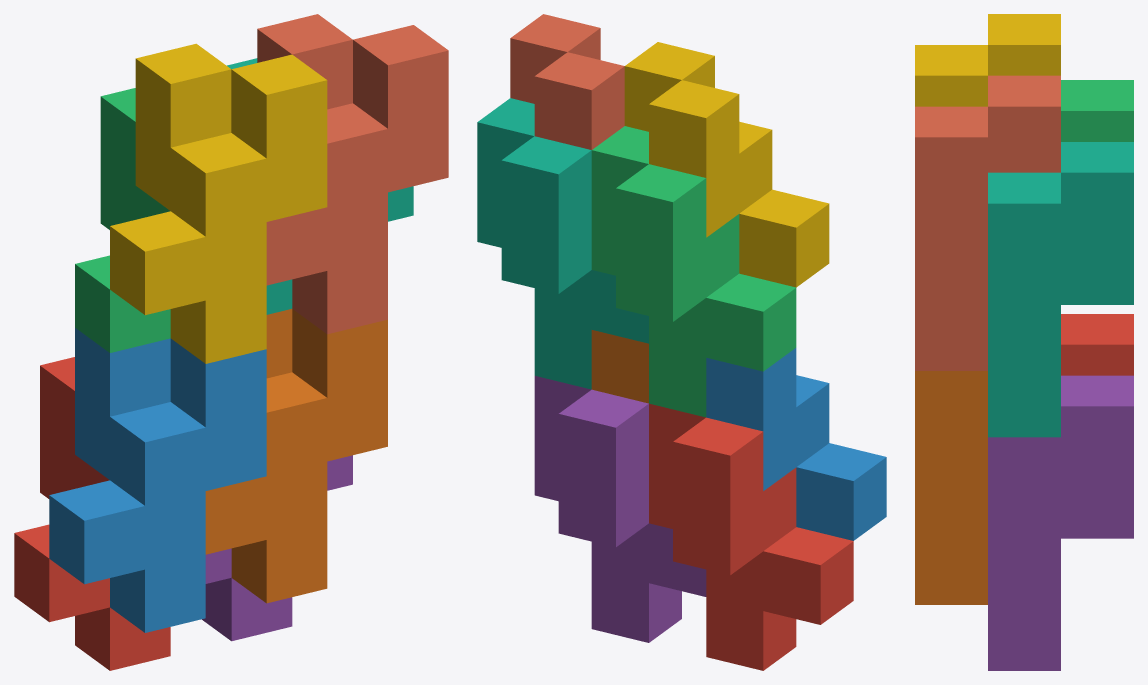
File: tiling.obj
3 views of the same model, side by side, from view 1: azimuth 30°, elevation 25°; view 2: azimuth 150°, elevation 25°; view 3: azimuth 270°, elevation 25° (orthographic). The views are drawn at different scales.
Parts seen in each view (by area): view 1: copy_1_domain_4, copy_1_domain_2, copy_1_domain_8, copy_1_domain_6, copy_1_domain_1, copy_1_domain_3, copy_1_domain_5, copy_1_domain_7; view 2: copy_1_domain_3, copy_1_domain_1, copy_1_domain_5, copy_1_domain_7, copy_1_domain_4, copy_1_domain_2, copy_1_domain_8, copy_1_domain_6; view 3: copy_1_domain_7, copy_1_domain_5, copy_1_domain_8, copy_1_domain_6, copy_1_domain_4, copy_1_domain_1, copy_1_domain_3.
Part boxes in pixels (bbox=[...]): copy_1_domain_4: bbox=[110, 43, 327, 363]; copy_1_domain_2: bbox=[49, 328, 266, 632]; copy_1_domain_8: bbox=[257, 14, 448, 334]; copy_1_domain_6: bbox=[205, 309, 387, 603]; copy_1_domain_1: bbox=[14, 357, 170, 670]; copy_1_domain_3: bbox=[75, 88, 170, 352]; copy_1_domain_5: bbox=[202, 455, 352, 641]; copy_1_domain_7: bbox=[227, 58, 413, 314]; copy_1_domain_3: bbox=[591, 126, 796, 417]; copy_1_domain_1: bbox=[649, 403, 853, 670]; copy_1_domain_5: bbox=[534, 376, 706, 642]; copy_1_domain_7: bbox=[477, 98, 648, 389]; copy_1_domain_4: bbox=[624, 42, 829, 287]; copy_1_domain_2: bbox=[706, 348, 886, 540]; copy_1_domain_8: bbox=[510, 14, 624, 149]; copy_1_domain_6: bbox=[591, 330, 648, 403]; copy_1_domain_7: bbox=[988, 142, 1133, 437]; copy_1_domain_5: bbox=[988, 375, 1133, 670]; copy_1_domain_8: bbox=[915, 75, 1060, 370]; copy_1_domain_6: bbox=[915, 371, 987, 604]; copy_1_domain_4: bbox=[915, 14, 1060, 106]; copy_1_domain_1: bbox=[1061, 314, 1133, 375]; copy_1_domain_3: bbox=[1061, 80, 1133, 141].
Bounding box in the file's own units: 6 × 9 × 3.
